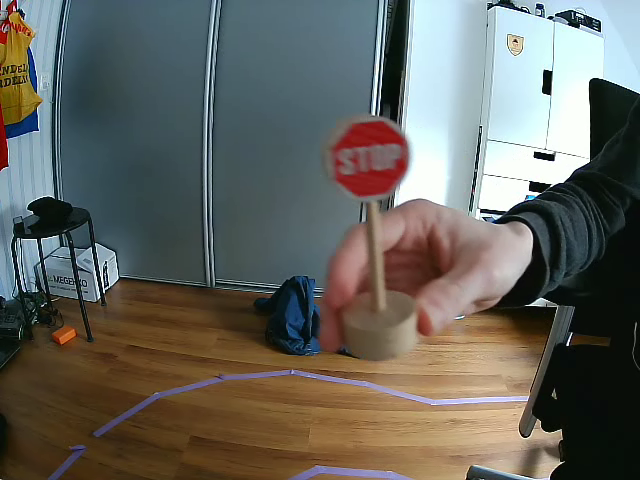stopbord: (330, 117, 409, 202)
